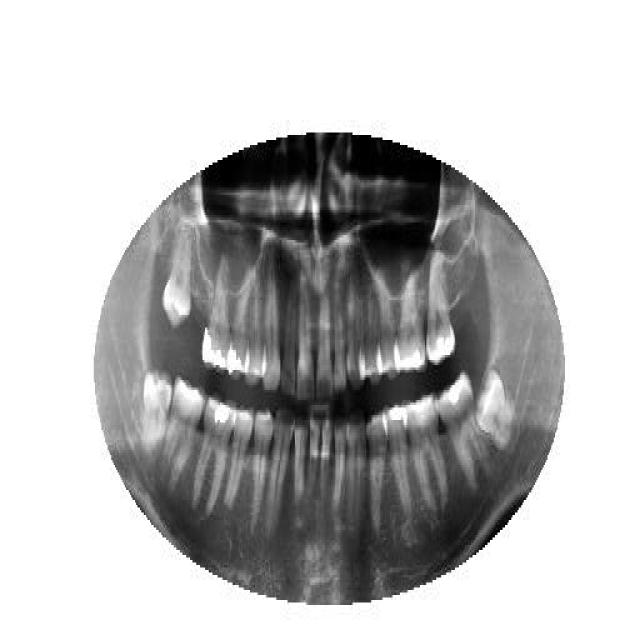Fillings: (438, 368, 488, 492), (193, 395, 235, 515), (426, 247, 459, 365), (202, 253, 232, 375), (381, 402, 409, 518), (395, 268, 426, 372), (228, 265, 250, 380)
Impacted Tooth: (475, 362, 515, 452)
